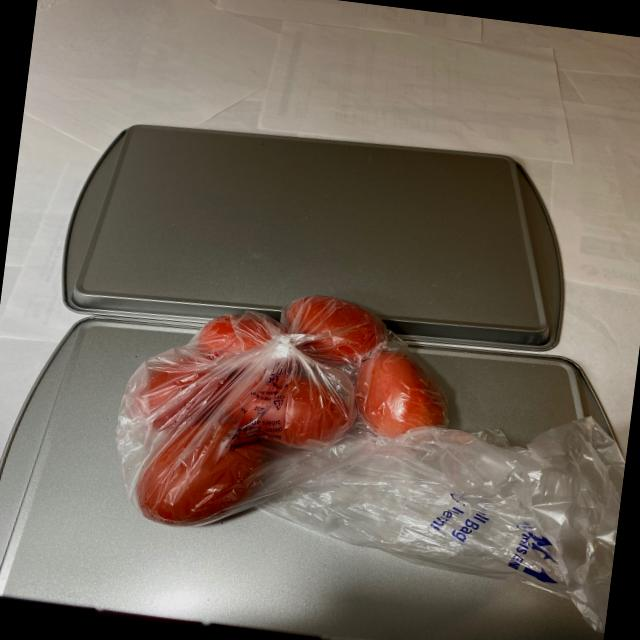tomato: (112, 273, 474, 561)
